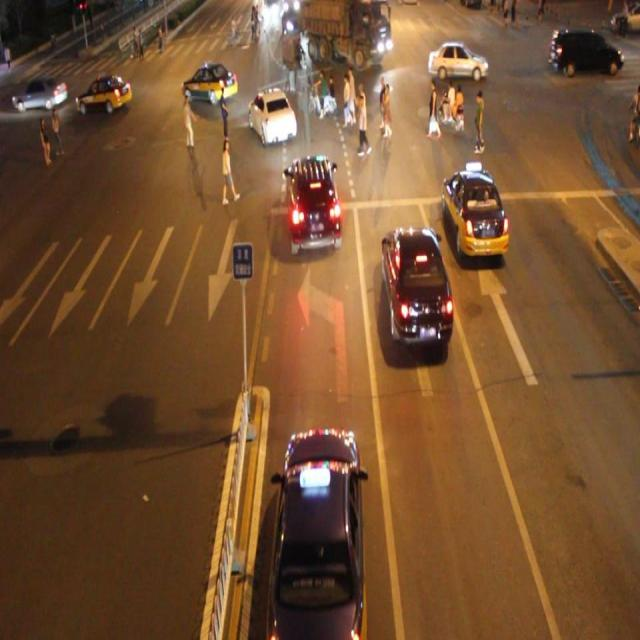bus: (297, 1, 391, 74)
car: (269, 424, 366, 640), (381, 223, 452, 346), (441, 169, 508, 259), (286, 154, 342, 253), (247, 87, 296, 145), (428, 40, 487, 84), (182, 63, 238, 104), (77, 76, 132, 114)
